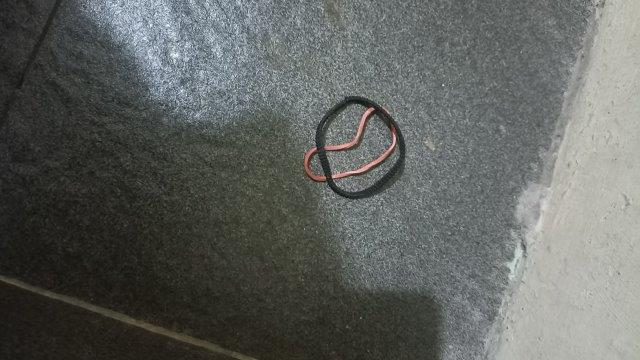karet: (304, 96, 405, 199)
